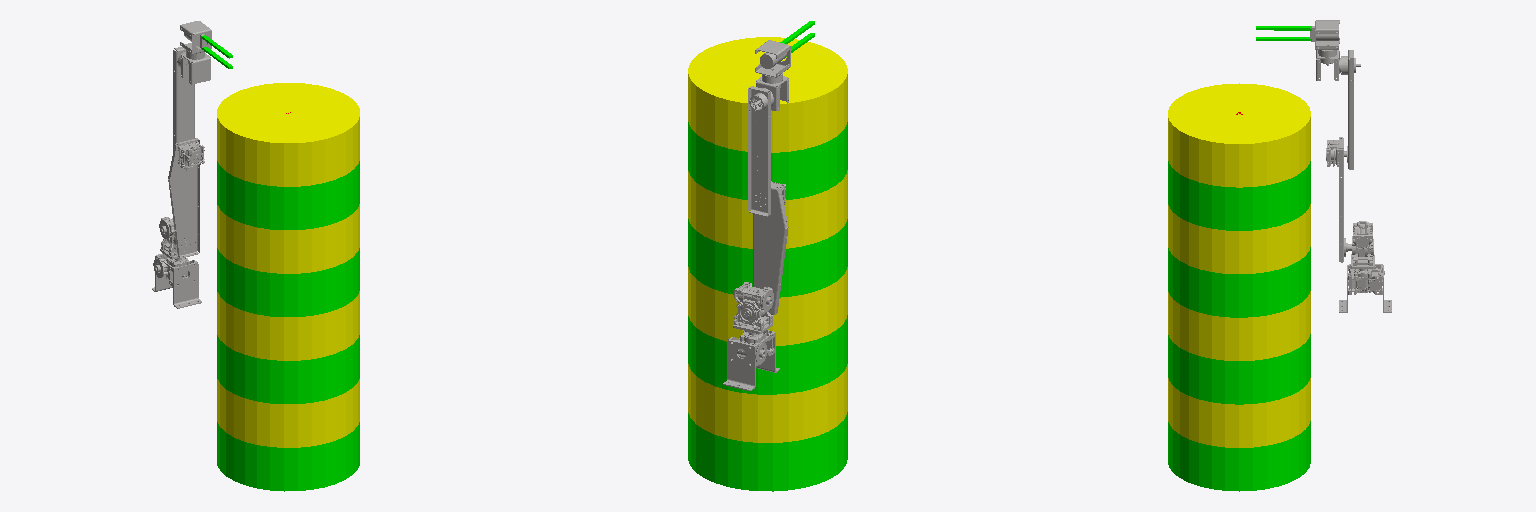
URDF robot description (leaf_robot_description):
<?xml version="1.0" encoding="utf-8"?>
<!-- Fixed URDF with proper base link and cleaner hierarchy -->

<robot name="leaf_robot_description">

<material name="gray">
  <color rgba="0.7451 0.73725 0.72941 1"/>
</material>

<material name="blue">
  <color rgba="0.79216 0.81961 0.93333 1"/>
</material>

  <!-- ================= BASE FOOTPRINT ================= -->
  <link name="base_footprint"/>

  <!-- ================= BASE LINK ================= -->
  <link name="base_link">
    <inertial>
      <origin xyz="-0.064016 -0.080031 0.11562" rpy="0 0 0"/>
      <mass value="1.1031"/>
      <inertia
        ixx="0.0023261"
        ixy="0.0001122"
        ixz="-1.4598E-06"
        iyy="0.0023583"
        iyz="5.3023E-06"
        izz="0.0024963"/>
    </inertial>

    <visual>
      <origin xyz="0 0 0" rpy="0 0 0"/>
      <geometry>
        <mesh filename="package://leaf_robot_description/meshes/BASE.STL"/>
      </geometry>
      <material name="gray">
        <color rgba="0.7451 0.73725 0.72941 1"/>
      </material>
    </visual>

    <collision>
      <origin xyz="0 0 0" rpy="0 0 0"/>
      <geometry>
        <mesh filename="package://leaf_robot_description/meshes/BASE.STL"/>
      </geometry>
    </collision>
  </link>

  <!-- FIXED ROOT JOINT -->
  <joint name="base_fixed_joint" type="fixed">
    <parent link="base_footprint"/>
    <child link="base_link"/>
    <origin xyz="0 0 0.6" rpy="0 0 3.14"/>
  </joint>

  <!-- ================= LINK J1 ================= -->
  <link name="J_1">
    <inertial>
      <origin xyz="0.0030632 -0.00037054 0.19009" rpy="0 0 0"/>
      <mass value="1.089"/>
      <inertia
        ixx="0.0018485"
        ixy="-1.4598E-06"
        ixz="-0.00011196"
        iyy="0.0024341"
        iyz="-5.3023E-06"
        izz="0.001692"/>
    </inertial>

    <visual>
      <origin xyz="0 0 0" rpy="0 0 0"/>
      <geometry>
        <mesh filename="package://leaf_robot_description/meshes/J_1.STL"/>
      </geometry>
      <material name="gray"/>
    </visual>

    <collision>
      <origin xyz="0 0 0" rpy="0 0 0"/>
      <geometry>
        <mesh filename="package://leaf_robot_description/meshes/J_1.STL"/>
      </geometry>
    </collision>
  </link>

  <joint name="ROT_1" type="revolute">
    <origin xyz="-0.067 -0.065 0.082" rpy="0 0 0"/>
    <parent link="base_link"/>
    <child link="J_1"/>
    <axis xyz="0 0 1"/>
    <limit lower="-3.14" upper="3.14" effort="10" velocity="1.0"/>
  </joint>

  <!-- ================= LINK J2 ================= -->
  <link name="J_2">
    <inertial>
      <origin xyz="-0.25856 0.13854 0.13905" rpy="0 0 0"/>
      <mass value="0.721"/>
      <inertia
        ixx="0.0019755"
        ixy="0.0020808"
        ixz="-3.9585E-06"
        iyy="0.004707"
        iyz="1.0786E-06"
        izz="0.00632"/>
    </inertial>

    <visual>
      <origin xyz="0 0 0" rpy="0 0 0"/>
      <geometry>
        <mesh filename="package://leaf_robot_description/meshes/J_2.STL"/>
      </geometry>
      <material name="gray"/>
    </visual>

    <collision>
      <origin xyz="0 0 0" rpy="0 0 0"/>
      <geometry>
        <mesh filename="package://leaf_robot_description/meshes/J_2.STL"/>
      </geometry>
    </collision>
  </link>

  <joint name="PITCH_1" type="revolute">
    <origin xyz="0 -0.046 0.194" rpy="1.5708 1.0472 -3.1416"/>
    <parent link="J_1"/>
    <child link="J_2"/>
    <axis xyz="0 0 1"/>
    <limit lower="-1.57" upper="1.57" effort="10" velocity="1.0"/>
  </joint>

  <!-- ================= LINK J3 ================= -->
  <link name="J_3">
    <inertial>
      <origin xyz="0.15412 -0.0055136 0.088982" rpy="0 0 0"/>
      <mass value="0.21768"/>
      <inertia
        ixx="0.0012955"
        ixy="7.1563E-06"
        ixz="-0.0018514"
        iyy="0.0047078"
        iyz="4.1274E-06"
        izz="0.0034333"/>
    </inertial>

    <visual>
      <origin xyz="0 0 0" rpy="0 0 0"/>
      <geometry>
        <mesh filename="package://leaf_robot_description/meshes/J_3.STL"/>
      </geometry>
      <material name="gray"/>
    </visual>

    <collision>
      <origin xyz="0 0 0" rpy="0 0 0"/>
      <geometry>
        <mesh filename="package://leaf_robot_description/meshes/J_3.STL"/>
      </geometry>
    </collision>
  </link>

  <joint name="PITCH_2" type="revolute">
    <origin xyz="-0.37152 0.2145 0.107" rpy="1.5708 0 -3.1416"/>
    <parent link="J_2"/>
    <child link="J_3"/>
    <axis xyz="0 1 0"/>
    <limit lower="-3.14" upper="3.14" effort="10" velocity="1.0"/>
  </joint>

  <!-- ================= LINK J4 ================= -->
  <link name="J_4">
    <inertial>
      <origin xyz="0.0015946 0.0041989 -0.028525" rpy="0 0 0"/>
      <mass value="0.2071"/>
      <inertia
        ixx="0.00034764"
        ixy="1.6788E-07"
        ixz="-4.447E-08"
        iyy="0.00034785"
        iyz="-2.7415E-07"
        izz="0.00030028"/>
    </inertial>

    <visual>
      <origin xyz="0 0 0" rpy="0 0 0"/>
      <geometry>
        <mesh filename="package://leaf_robot_description/meshes/J_4.STL"/>
      </geometry>
      <material name="gray"/>
    </visual>

    <collision>
      <origin xyz="0 0 0" rpy="0 0 0"/>
      <geometry>
        <mesh filename="package://leaf_robot_description/meshes/J_4.STL"/>
      </geometry>
    </collision>
  </link>

  <joint name="PITCH_3" type="revolute">
    <origin xyz="0.3542 0.012 0.2045" rpy="1.5708 0.68579 0"/>
    <parent link="J_3"/>
    <child link="J_4"/>
    <axis xyz="0 0 1"/>
    <limit lower="-3.14" upper="3.14" effort="10" velocity="1.0"/>
  </joint>

  <!-- ================= LINK J5 ================= -->
  <link name="J_5">
    <inertial>
      <origin xyz="-0.0015905 -0.0042271 -0.028525" rpy="0 0 0"/>
      <mass value="0.2071"/>
      <inertia
        ixx="0.00034764"
        ixy="1.6788E-07"
        ixz="1.2854E-07"
        iyy="0.00034785"
        iyz="1.8355E-07"
        izz="0.00030028"/>
    </inertial>

    <visual>
      <origin xyz="0 0 0" rpy="0 0 0"/>
      <geometry>
        <mesh filename="package://leaf_robot_description/meshes/J_5.STL"/>
      </geometry>
      <material name="gray"/>
    </visual>

    <collision>
      <origin xyz="0 0 0" rpy="0 0 0"/>
      <geometry>
        <mesh filename="package://leaf_robot_description/meshes/J_5.STL"/>
      </geometry>
    </collision>
  </link>

  <joint name="ROT_2" type="revolute">
    <origin xyz="0.023514 0.062204 -0.0725" rpy="-1.5708 -2.7802 2.7802"/>
    <parent link="J_4"/>
    <child link="J_5"/>
    <axis xyz="0 0 1"/>
    <limit lower="-3.14" upper="3.14" effort="10" velocity="1.0"/>
  </joint>

  <!-- ================= LINK J6 ================= -->
  <joint name="ROT_3" type="revolute">
    <parent link="J_5"/>
    <child link="J_6"/>
    <origin xyz="-0.0015905 -0.0042271 -0.078525" rpy="0 0 -0.353599"/>
    <axis xyz="0 1 0"/>
    <limit effort="50" velocity="1.0" lower="-6.28" upper="6.28"/>
  </joint>

  <link name="J_6">
    <visual>
      <geometry><cylinder length="0.1" radius="0.03"/></geometry>
      <origin xyz="0 0 0" rpy="-1.5708 0 0"/>
      <material name="gray"/>
    </visual>
    <collision>
      <geometry><box size="0.04 0.02 0.02"/></geometry>
      <origin xyz="0 0 0" rpy="-1.5708 0 0"/>
    </collision>
  </link>

  <!-- ========================= -->
  <!-- GRIPPER BASE -->
  <!-- ========================= -->

  <joint name="Gripper" type="fixed">
    <parent link="J_6"/>
    <child link="gripper_base_link"/>
    <origin xyz="0 -0.06 0" rpy="1.5708 0 0"/>
  </joint>

  <link name="gripper_base_link">
    <visual>
      <geometry>
        <box size="0.02 0.06 0.02"/>
      </geometry>
      <material name="gray"/>
    </visual>
  </link>

  <!-- LEFT FINGER -->

  <joint name="left_finger_joint" type="prismatic">
    <parent link="gripper_base_link"/>
    <child link="left_finger"/>
    <origin xyz="0 0.025 0"/>
    <axis xyz="0 -1 0"/>
    <limit lower="0.0" upper="0.02"
           effort="10" velocity="0.1"/>
  </joint>

  <link name="left_finger">
    <visual>
      <geometry>
        <box size="0.02 0.01 0.235"/>
      </geometry>
      <origin xyz="0 0 0.1175"/>
      <material name="green"/>
    </visual>
  </link>

  <!-- RIGHT FINGER -->

  <joint name="right_finger_joint" type="prismatic">
    <parent link="gripper_base_link"/>
    <child link="right_finger"/>
    <origin xyz="0 -0.025 0"/>
    <axis xyz="0 -1 0"/>
    <mimic joint="left_finger_joint" multiplier="-1.0"/>
    <limit lower="0.0" upper="0.02"
           effort="10" velocity="0.1"/>
  </joint>

  <link name="right_finger">
    <visual>
      <geometry>
        <box size="0.02 0.01 0.235"/>
      </geometry>
      <origin xyz="0 0 0.1175"/>
      <material name="green"/>
    </visual>
  </link> 

<!-- ================================================= -->
<!-- MATERIALS -->
<!-- ================================================= -->

<material name="green">
  <color rgba="0 1 0 0.5"/>
</material>

<material name="yellow">
  <color rgba="1 1 0 0.5"/>
</material>

<material name="red">
  <color rgba="1 0 0 1"/>
</material>


<!-- ================================================= -->
<!-- BIG CYLINDER DIVIDED INTO 8 HEIGHT SECTIONS -->
<!-- ALTERNATE GREEN + YELLOW -->
<!-- ================================================= -->


<!-- ================= SECTION 1 ================= -->
<link name="big_section_1">

  <visual>
    <origin xyz="0 0 0" rpy="0 0 0"/>

    <geometry>
      <cylinder radius="0.30" length="0.2"/>
    </geometry>

    <material name="green"/>
  </visual>

  <collision>
    <origin xyz="0 0 0" rpy="0 0 0"/>

    <geometry>
      <cylinder radius="0.30" length="0.2"/>
    </geometry>
  </collision>

</link>

<joint name="big_section_1_joint" type="fixed">
  <parent link="base_footprint"/>
  <child link="big_section_1"/>

  <origin xyz="0.30 -0.45 0.1" rpy="0 0 0"/>
</joint>


<!-- ================= SECTION 2 ================= -->
<link name="big_section_2">

  <visual>
    <origin xyz="0 0 0" rpy="0 0 0"/>

    <geometry>
      <cylinder radius="0.30" length="0.2"/>
    </geometry>

    <material name="yellow"/>
  </visual>

  <collision>
    <origin xyz="0 0 0" rpy="0 0 0"/>

    <geometry>
      <cylinder radius="0.30" length="0.2"/>
    </geometry>
  </collision>

</link>

<joint name="big_section_2_joint" type="fixed">
  <parent link="base_footprint"/>
  <child link="big_section_2"/>

  <origin xyz="0.30 -0.45 0.3" rpy="0 0 0"/>
</joint>


<!-- ================= SECTION 3 ================= -->
<link name="big_section_3">

  <visual>
    <origin xyz="0 0 0" rpy="0 0 0"/>

    <geometry>
      <cylinder radius="0.30" length="0.2"/>
    </geometry>

    <material name="green"/>
  </visual>

  <collision>
    <origin xyz="0 0 0" rpy="0 0 0"/>

    <geometry>
      <cylinder radius="0.30" length="0.2"/>
    </geometry>
  </collision>

</link>

<joint name="big_section_3_joint" type="fixed">
  <parent link="base_footprint"/>
  <child link="big_section_3"/>

  <origin xyz="0.30 -0.45 0.5" rpy="0 0 0"/>
</joint>


<!-- ================= SECTION 4 ================= -->
<link name="big_section_4">

  <visual>
    <origin xyz="0 0 0" rpy="0 0 0"/>

    <geometry>
      <cylinder radius="0.30" length="0.2"/>
    </geometry>

    <material name="yellow"/>
  </visual>

  <collision>
    <origin xyz="0 0 0" rpy="0 0 0"/>

    <geometry>
      <cylinder radius="0.30" length="0.2"/>
    </geometry>
  </collision>

</link>

<joint name="big_section_4_joint" type="fixed">
  <parent link="base_footprint"/>
  <child link="big_section_4"/>

  <origin xyz="0.30 -0.45 0.7" rpy="0 0 0"/>
</joint>


<!-- ================= SECTION 5 ================= -->
<link name="big_section_5">

  <visual>
    <origin xyz="0 0 0" rpy="0 0 0"/>

    <geometry>
      <cylinder radius="0.30" length="0.2"/>
    </geometry>

    <material name="green"/>
  </visual>

  <collision>
    <origin xyz="0 0 0" rpy="0 0 0"/>

    <geometry>
      <cylinder radius="0.30" length="0.2"/>
    </geometry>
  </collision>

</link>

<joint name="big_section_5_joint" type="fixed">
  <parent link="base_footprint"/>
  <child link="big_section_5"/>

  <origin xyz="0.30 -0.45 0.9" rpy="0 0 0"/>
</joint>


<!-- ================= SECTION 6 ================= -->
<link name="big_section_6">

  <visual>
    <origin xyz="0 0 0" rpy="0 0 0"/>

    <geometry>
      <cylinder radius="0.30" length="0.2"/>
    </geometry>

    <material name="yellow"/>
  </visual>

  <collision>
    <origin xyz="0 0 0" rpy="0 0 0"/>

    <geometry>
      <cylinder radius="0.30" length="0.2"/>
    </geometry>
  </collision>

</link>

<joint name="big_section_6_joint" type="fixed">
  <parent link="base_footprint"/>
  <child link="big_section_6"/>

  <origin xyz="0.30 -0.45 1.1" rpy="0 0 0"/>
</joint>


<!-- ================= SECTION 7 ================= -->
<link name="big_section_7">

  <visual>
    <origin xyz="0 0 0" rpy="0 0 0"/>

    <geometry>
      <cylinder radius="0.30" length="0.2"/>
    </geometry>

    <material name="green"/>
  </visual>

  <collision>
    <origin xyz="0 0 0" rpy="0 0 0"/>

    <geometry>
      <cylinder radius="0.30" length="0.2"/>
    </geometry>
  </collision>

</link>

<joint name="big_section_7_joint" type="fixed">
  <parent link="base_footprint"/>
  <child link="big_section_7"/>

  <origin xyz="0.30 -0.45 1.3" rpy="0 0 0"/>
</joint>


<!-- ================= SECTION 8 ================= -->
<link name="big_section_8">

  <visual>
    <origin xyz="0 0 0" rpy="0 0 0"/>

    <geometry>
      <cylinder radius="0.30" length="0.2"/>
    </geometry>

    <material name="yellow"/>
  </visual>

  <collision>
    <origin xyz="0 0 0" rpy="0 0 0"/>

    <geometry>
      <cylinder radius="0.30" length="0.2"/>
    </geometry>
  </collision>

</link>

<joint name="big_section_8_joint" type="fixed">
  <parent link="base_footprint"/>
  <child link="big_section_8"/>

  <origin xyz="0.30 -0.45 1.5" rpy="0 0 0"/>
</joint>


<!-- ================================================= -->
<!-- SMALL CENTER CYLINDER -->
<!-- ================================================= -->

<link name="small_cylinder_1">

  <visual>
    <origin xyz="0 0 0" rpy="0 0 0"/>

    <geometry>
      <cylinder radius="0.015" length="1.6"/>
    </geometry>

    <material name="red"/>
  </visual>

  <collision>
    <origin xyz="0 0 0" rpy="0 0 0"/>

    <geometry>
      <cylinder radius="0.015" length="1.6"/>
    </geometry>
  </collision>

</link>

<joint name="small_cylinder_1_joint" type="fixed">
  <parent link="base_footprint"/>
  <child link="small_cylinder_1"/>

  <origin xyz="0.30 -0.45 0.8" rpy="0 0 0"/>
</joint>

</robot>

--- Render facts (derived) ---
The picture shows the robot from 3 angles, left to right: view 1: azimuth 30°, elevation 25°; view 2: azimuth 150°, elevation 25°; view 3: azimuth 270°, elevation 25°; orthographic projection.
Model leaf_robot_description with 20 links and 19 joints (6 revolute, 2 prismatic, 11 fixed), rooted at base_footprint, posed all joints at 0.
Links seen in each view (by area): view 1: big_section_8, big_section_2, big_section_4, big_section_6, big_section_3, big_section_7, big_section_1, big_section_5, J_2, base_link, J_3, J_4 (+2 smaller); view 2: big_section_8, big_section_1, big_section_2, big_section_7, big_section_5, big_section_6, big_section_3, big_section_4, J_2, J_3, base_link, J_1 (+2 smaller); view 3: big_section_8, big_section_2, big_section_5, big_section_7, big_section_3, big_section_4, big_section_6, big_section_1, base_link, J_2, J_1, J_5 (+1 smaller).
Boxes of the visible links, box(x1,y1,x2,y2) form: big_section_8: box(217, 83, 359, 186); big_section_2: box(217, 379, 359, 447); big_section_4: box(217, 291, 359, 360); big_section_6: box(217, 204, 359, 273); big_section_3: box(217, 335, 359, 403); big_section_7: box(217, 161, 359, 229); big_section_1: box(217, 422, 359, 491); big_section_5: box(217, 248, 359, 316); J_2: box(168, 138, 204, 258); base_link: box(152, 253, 201, 308); J_3: box(173, 47, 194, 150); J_4: box(177, 52, 210, 84); big_section_8: box(688, 37, 847, 152); big_section_1: box(688, 412, 847, 491); big_section_2: box(688, 364, 847, 442); big_section_7: box(688, 122, 847, 199); big_section_5: box(688, 219, 847, 297); big_section_6: box(688, 170, 847, 248); big_section_3: box(688, 315, 847, 394); big_section_4: box(688, 267, 847, 345); J_2: box(744, 181, 788, 316); J_3: box(748, 86, 770, 216); base_link: box(723, 330, 779, 390); J_1: box(733, 282, 773, 335); big_section_8: box(1168, 83, 1310, 187); big_section_2: box(1168, 378, 1310, 447); big_section_5: box(1168, 247, 1310, 317); big_section_7: box(1168, 161, 1310, 230); big_section_3: box(1168, 334, 1310, 404); big_section_4: box(1168, 291, 1310, 360); big_section_6: box(1168, 204, 1310, 273); big_section_1: box(1168, 421, 1310, 491); base_link: box(1339, 264, 1391, 312); J_2: box(1326, 137, 1351, 262); J_1: box(1351, 221, 1374, 270); J_5: box(1315, 20, 1339, 65).
Size in the robot's own frame: 0.6298 by 0.939 by 1.9 metres.
Meshes: 6 distinct files referenced, 6 mesh visuals loaded (6 binary STL).
